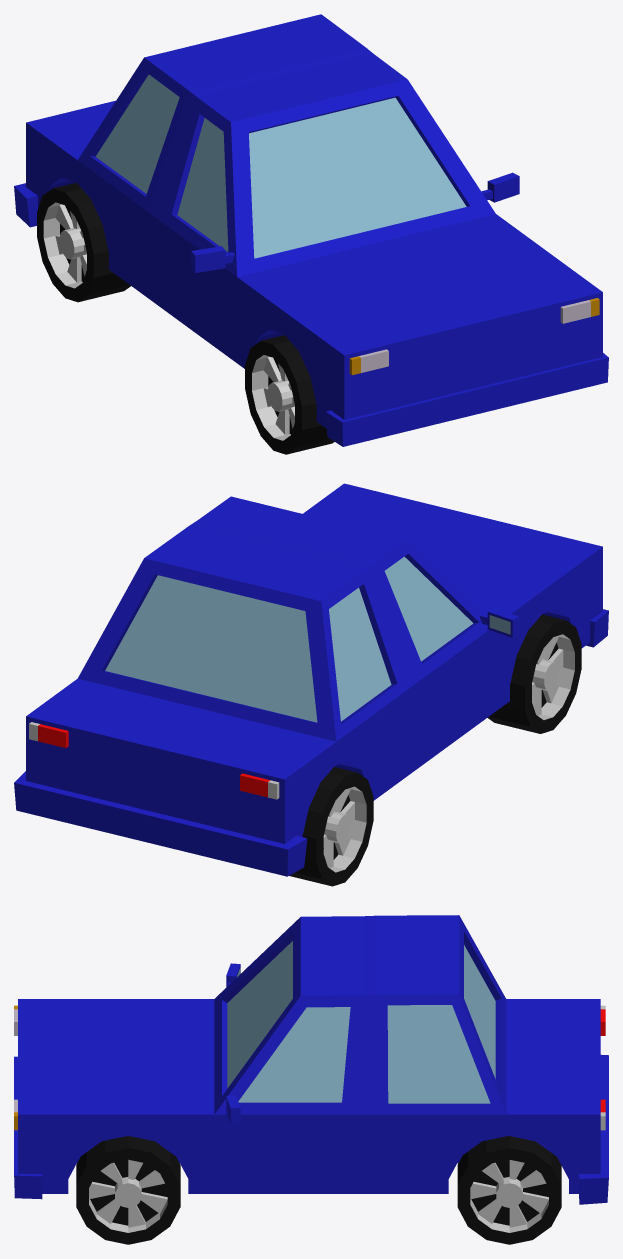
Rendered from Low Poly Car[1].obj.
The picture shows the model from 3 angles, top to bottom: view 1: azimuth 30°, elevation 25°; view 2: azimuth 150°, elevation 25°; view 3: azimuth 270°, elevation 25°; orthographic projection. The views are drawn at different scales.
Parts seen in each view (by area): view 1: Cube.001; view 2: Cube.001; view 3: Cube.001.
Part boxes in pixels (x1=…): Cube.001: x1=14, y1=14, x2=608, y2=454; Cube.001: x1=14, y1=483, x2=608, y2=886; Cube.001: x1=14, y1=915, x2=608, y2=1244.
Size of the model in its own units: 2.8 by 2.05 by 4.86.
